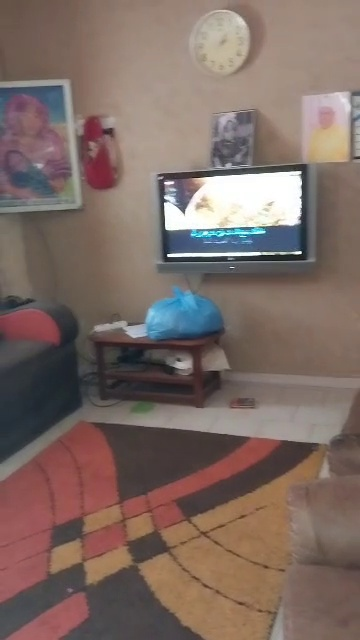television: (140, 159, 332, 274)
